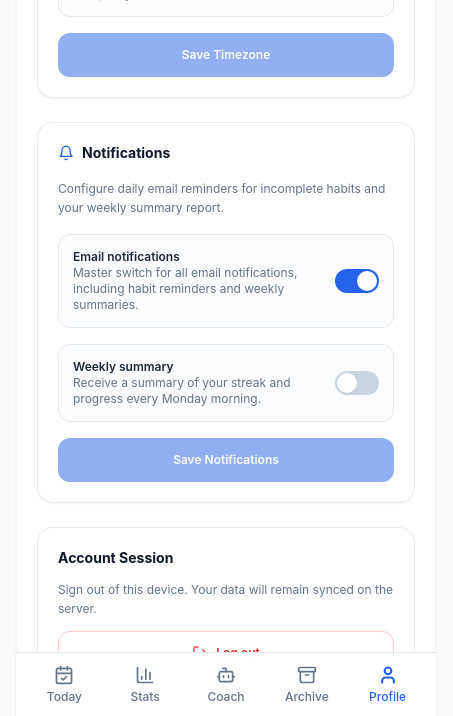
Test: ProfilePage Notifications Section › updates weekly summary toggle and saves via PATCH /auth/profile/
(page scrolled)
Step 1. Click the 3rd switch named "weekly summary" → [357, 382], box [335, 370, 379, 394]
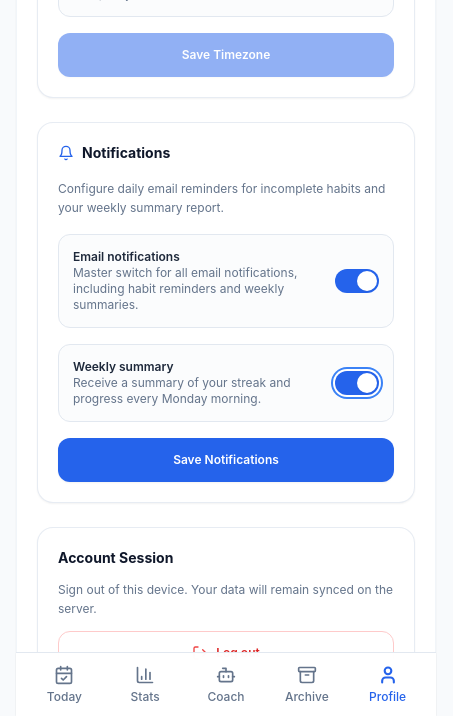
Check: the 3rd switch named "weekly summary" is checked, box [335, 370, 379, 394]
Check: the button "Save Notifications" is enabled
Step 2. Click the button "Save Notifications" → [226, 460], box [58, 438, 394, 482]
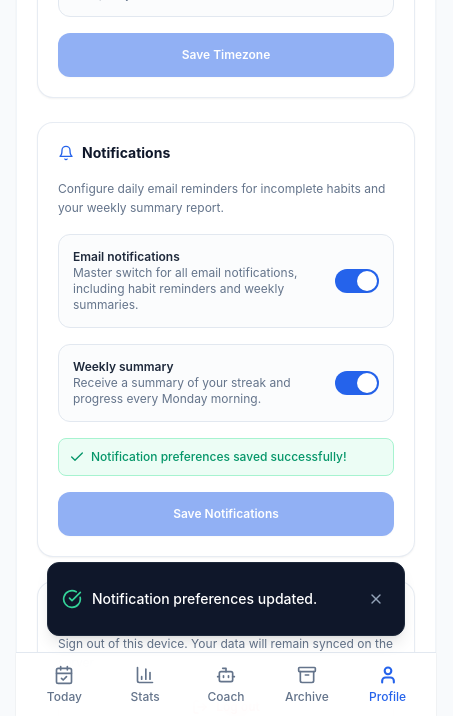
Check: the text "Notification preferences saved successfully!" is shown, box [91, 448, 346, 464]
